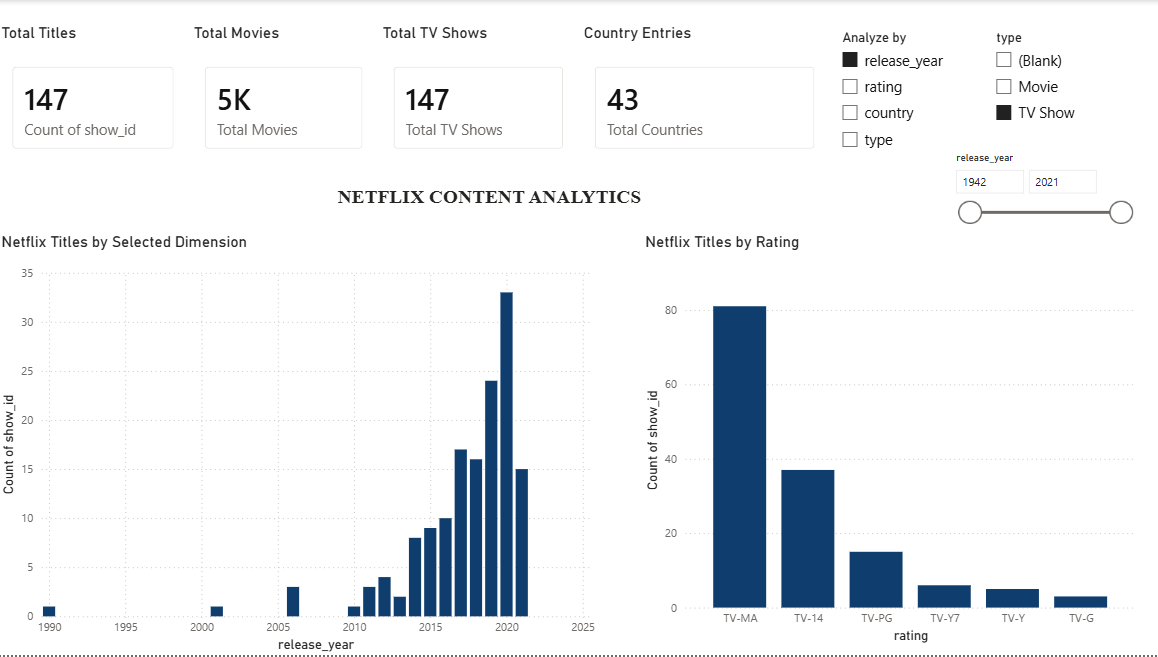

Layout of this report page (visuals, bound fields, positions):
{"tool":"powerbi","page":{"name":"Page 1","canvas":[1280,720],"ordinal":0},"visuals":[{"type":"slicer","fields":{"Values":["netflix_titles (3).type"]},"box":[1084.1,27.4,149.6,134.5],"z":0},{"type":"slicer","fields":{"Values":["Analyze by .Analyze by "]},"box":[915.3,27.4,157.8,153.7],"z":1000},{"type":"clusteredColumnChart","title":"Netflix Titles by Selected Dimension","fields":{"Category":["netflix_titles (3).release_year"],"Y":["CountNonNull(netflix_titles (3).show_id)"]},"box":[0,255.2,662.8,465.2],"z":2000},{"type":"cardVisual","title":"Total Titles ","fields":{"Data":["Count(netflix_titles (3).show_id)"]},"box":[0,26.1,211.3,155.1],"z":3000},{"type":"cardVisual","title":"Total Movies","fields":{"Data":["Analyze by .Total Movies"]},"box":[211.3,26.1,207.2,155.1],"z":4000},{"type":"cardVisual","title":"Total TV Shows","fields":{"Data":["Analyze by .Total TV Shows"]},"box":[418.5,26.1,220.9,155.1],"z":5000},{"type":"cardVisual","title":"Country Entries ","fields":{"Data":["Analyze by .Total Countries"]},"box":[639.5,26.1,275.8,155.1],"z":6000},{"type":"clusteredColumnChart","title":"Netflix Titles by Rating","fields":{"Category":["netflix_titles (3).rating"],"Y":["Count(netflix_titles (3).show_id)"]},"box":[706.7,255.2,548.9,455.6],"z":7000},{"type":"textbox","box":[100.2,199,881,41.2],"z":7001},{"type":"slicer","fields":{"Values":["netflix_titles (3).release_year"]},"box":[1040.1,161.9,215.4,98.8],"z":7002}]}

Visuals, with their boxes in screenshot pixels (x1, y1, x2, y2), scaled from the page's 1280x720 canvas onto the 1158x657 screenshot:
slicer - netflix_titles (3).type: select_region(981, 25, 1116, 148)
slicer - Analyze by .Analyze by : select_region(828, 25, 971, 165)
"Netflix Titles by Selected Dimension" clusteredColumnChart: select_region(0, 233, 600, 656)
"Total Titles " cardVisual: select_region(0, 24, 191, 165)
"Total Movies" cardVisual: select_region(191, 24, 379, 165)
"Total TV Shows" cardVisual: select_region(379, 24, 578, 165)
"Country Entries " cardVisual: select_region(579, 24, 828, 165)
"Netflix Titles by Rating" clusteredColumnChart: select_region(639, 233, 1136, 649)
textbox: select_region(91, 182, 888, 219)
slicer - netflix_titles (3).release_year: select_region(941, 148, 1136, 238)
